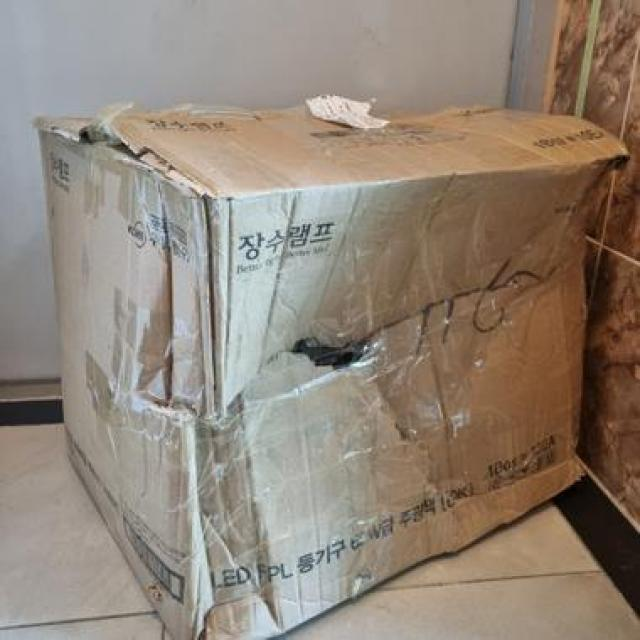damaged: (286, 322, 369, 376)
